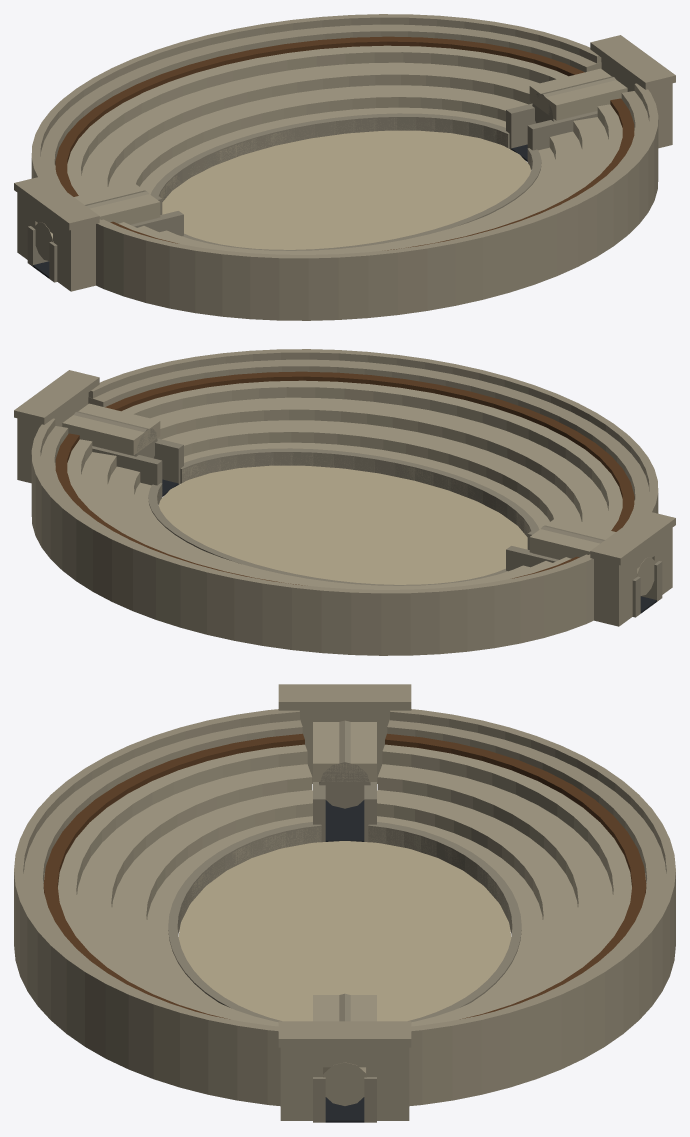
Rendered from roman_amphitheatre.glb.
3 views of the same model, one above another, from view 1: azimuth 30°, elevation 25°; view 2: azimuth 150°, elevation 25°; view 3: azimuth 270°, elevation 25° (orthographic). The views are drawn at different scales.
Visible parts, largest first — view 1: roman_amphitheatre; view 2: roman_amphitheatre; view 3: roman_amphitheatre.
Part boxes in pixels (x1=…): roman_amphitheatre: x1=14, y1=14, x2=675, y2=320; roman_amphitheatre: x1=14, y1=349, x2=675, y2=655; roman_amphitheatre: x1=14, y1=684, x2=675, y2=1122.
Size of the model in its own units: 108 by 11.8 by 85.
